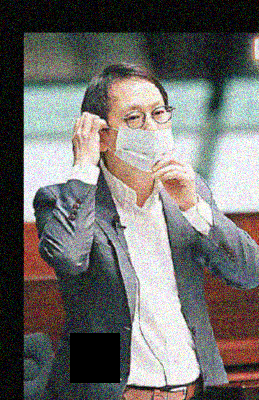with_mask: (106, 102, 172, 172)
